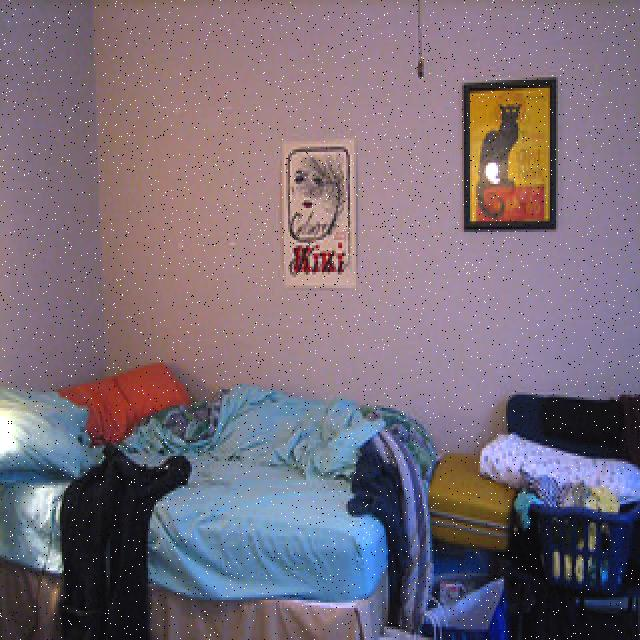bed: (0, 364, 432, 640)
